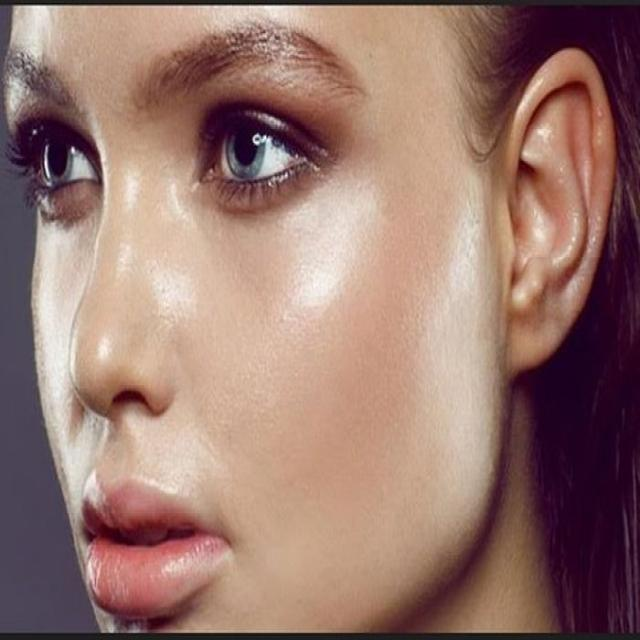oily: (217, 204, 414, 492), (76, 222, 132, 375)
